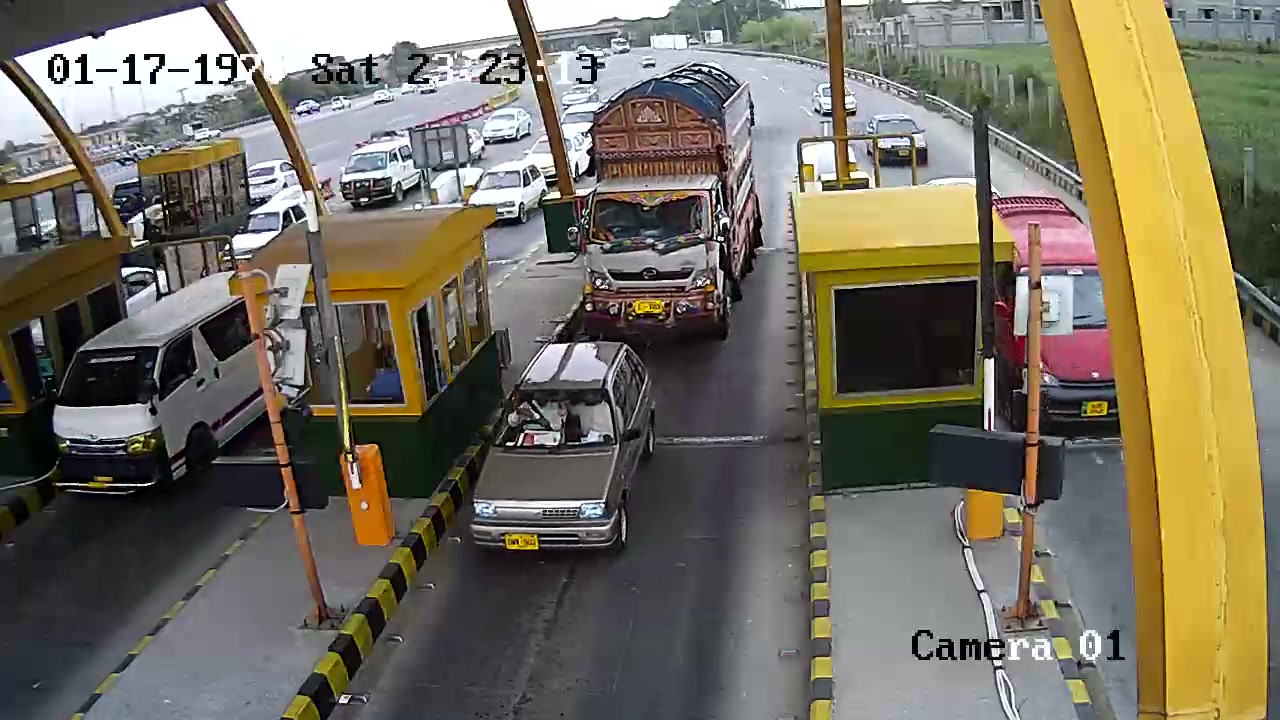F1: (464, 336, 683, 577)
F5: (576, 64, 762, 334)
